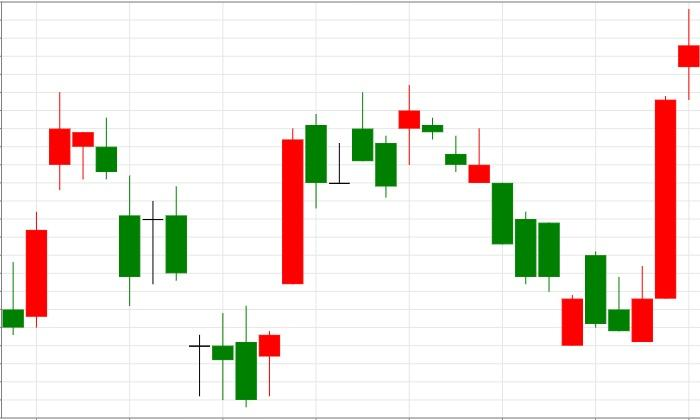bullish_engulfing_rise: (398, 85, 653, 347)
three_white_soldiers_rise: (398, 8, 700, 346)
